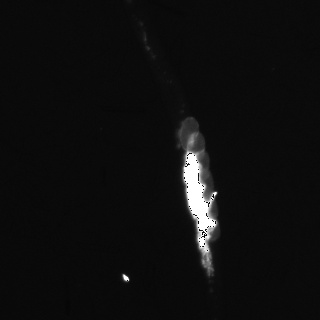embryo: (198, 211, 221, 243), (177, 117, 199, 150), (198, 196, 219, 224), (196, 171, 215, 201), (193, 152, 210, 179), (188, 133, 205, 159)
